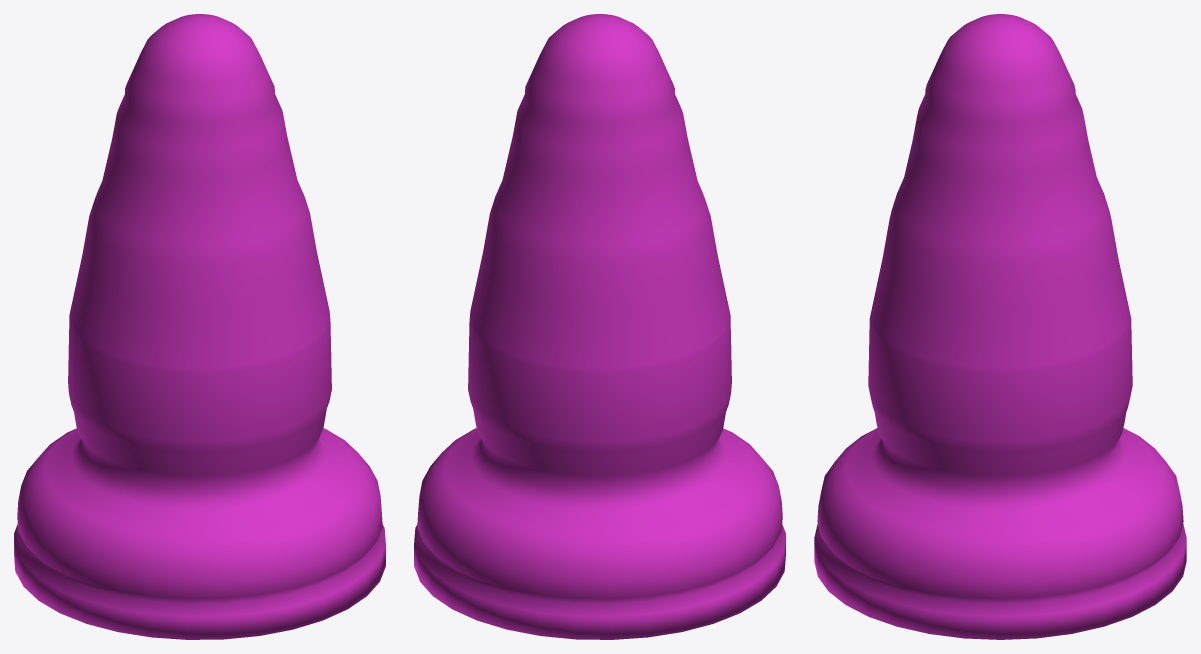
File: dummy.fbx
3 renders of one model, left to right at view 1: azimuth 30°, elevation 25°; view 2: azimuth 150°, elevation 25°; view 3: azimuth 270°, elevation 25°, orthographic.
Parts seen in each view (by area): view 1: Pawn-; view 2: Pawn-; view 3: Pawn-.
Boxes of the visible parts, x1,y1,x2,y2 form: Pawn-: (14, 14, 385, 639); Pawn-: (414, 14, 785, 639); Pawn-: (814, 14, 1186, 639).
Size of the model in its own units: 600 by 963 by 600.
